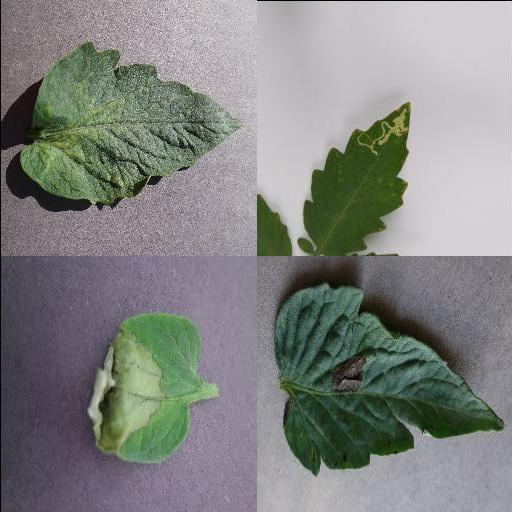Early Blight: (272, 282, 506, 478)
Late Blight: (85, 311, 197, 465)
Leaf Miner: (303, 100, 412, 256)
Spider Mites: (17, 43, 243, 205)
